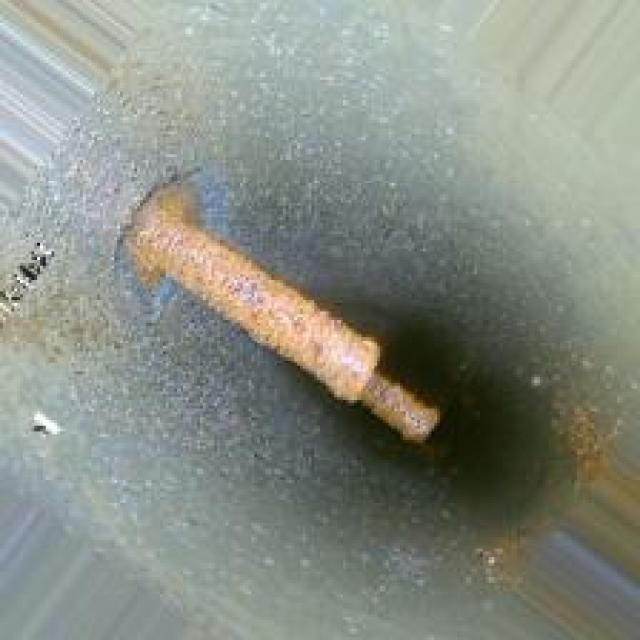ferrule: (103, 168, 446, 443)
